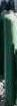cylinder: (0, 1, 17, 106)
